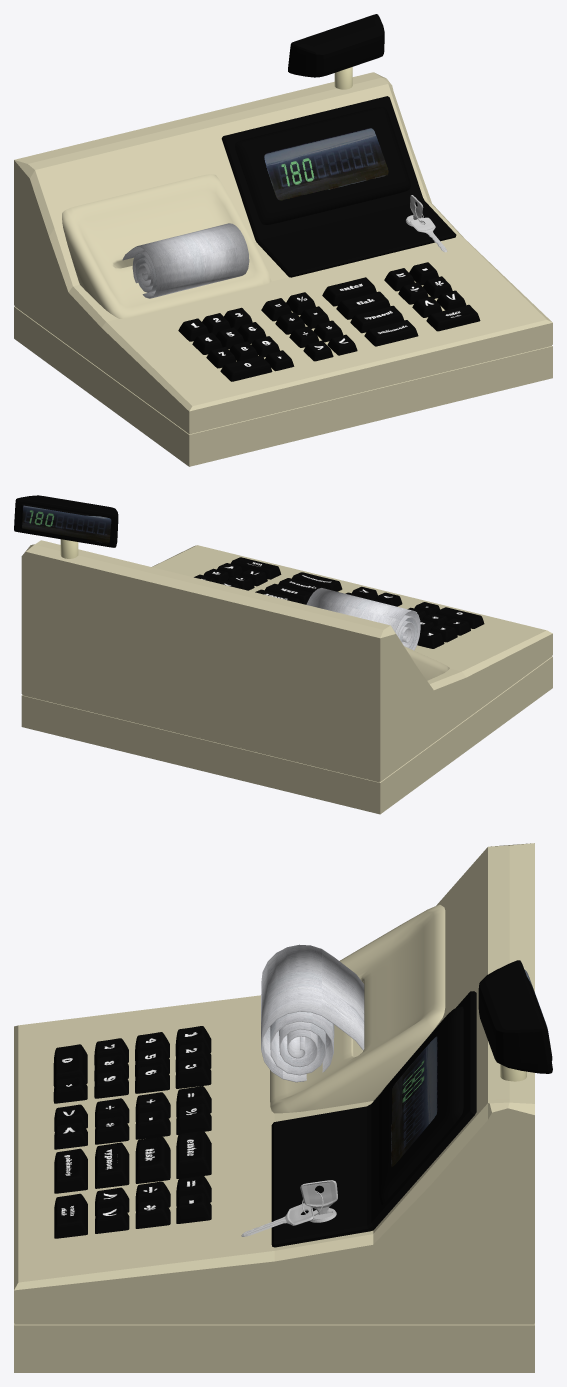
Rendered from kasa_fbx.fbx.
3 renders of one model, top to bottom at view 1: azimuth 30°, elevation 25°; view 2: azimuth 150°, elevation 25°; view 3: azimuth 270°, elevation 25°, orthographic. The views are drawn at different scales.
Visible parts, largest first — view 1: Cube, Cube.002, Cube.004, kalkulátor monitor, papír, tlačítko, Cube.003, tlačítk_base.002, tlačítk_base.001, tlačítk_base.003, tlačítk_base.004; view 2: Cube, papír, Cube.005, tlačítko, Cube.003, tlačítk_base.002, tlačítk_base.003, Cube.002, tlačítk_base.001, tlačítk_base.004; view 3: Cube, Cube.002, kalkulátor monitor, papír, Cube.004, tlačítko, tlačítk_base.002, tlačítk_base.001, Cube.003, tlačítk_base.003, tlačítk_base.004, klíč (+1 smaller).
Boxes of the visible parts, x1,y1,x2,y2 form: Cube: (14, 72, 552, 466); Cube.002: (62, 174, 271, 318); Cube.004: (235, 107, 410, 224); kalkulátor monitor: (221, 96, 456, 277); papír: (122, 223, 249, 298); tlačítko: (178, 307, 294, 381); Cube.003: (288, 14, 384, 77); tlačítk_base.002: (322, 277, 418, 346); tlačítk_base.001: (261, 292, 357, 361); tlačítk_base.003: (384, 262, 466, 317); tlačítk_base.004: (426, 304, 480, 331); Cube: (21, 540, 552, 814); papír: (306, 588, 420, 650); Cube.005: (20, 504, 111, 543); tlačítko: (407, 602, 484, 648); Cube.003: (14, 495, 118, 547); tlačítk_base.002: (255, 572, 342, 604); tlačítk_base.003: (194, 563, 267, 590); Cube.002: (404, 646, 449, 680); tlačítk_base.001: (345, 586, 402, 606); tlačítk_base.004: (230, 557, 281, 579); Cube: (14, 843, 534, 1372); Cube.002: (270, 904, 445, 1113); kalkulátor monitor: (271, 991, 476, 1247); papír: (261, 944, 364, 1082); Cube.004: (378, 1006, 463, 1204); tlačítko: (53, 1026, 211, 1103); tlačítk_base.002: (54, 1130, 211, 1193); tlačítk_base.001: (54, 1086, 211, 1149); Cube.003: (478, 960, 552, 1073); tlačítk_base.003: (95, 1175, 211, 1233); tlačítk_base.004: (54, 1193, 87, 1238); klíč: (300, 1180, 337, 1214).
Bounding box in the file's own units: 847 × 515 × 725.
